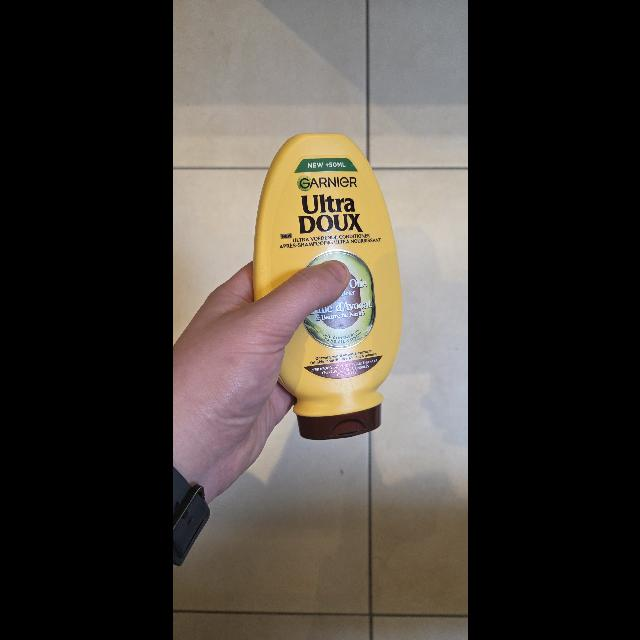Plastic: (252, 131, 404, 441)
